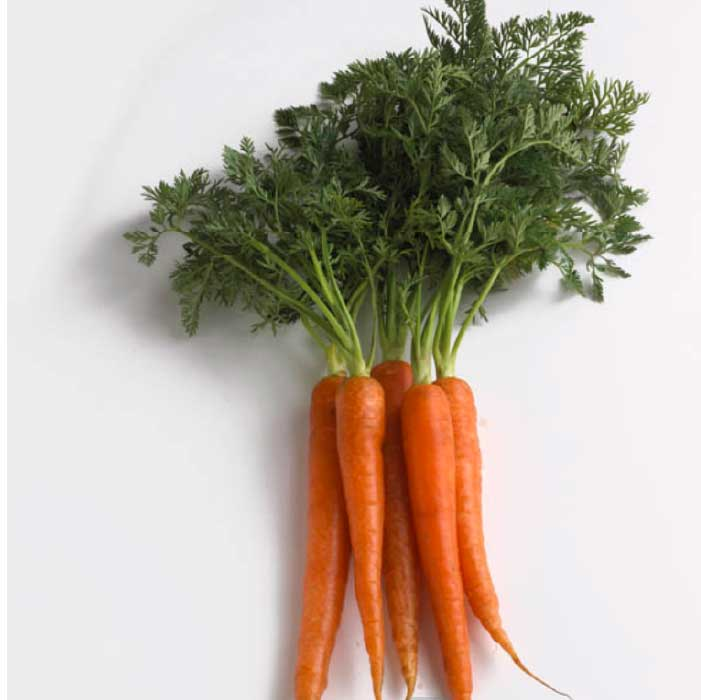Karotte: (398, 384, 471, 700), (335, 376, 385, 700)
